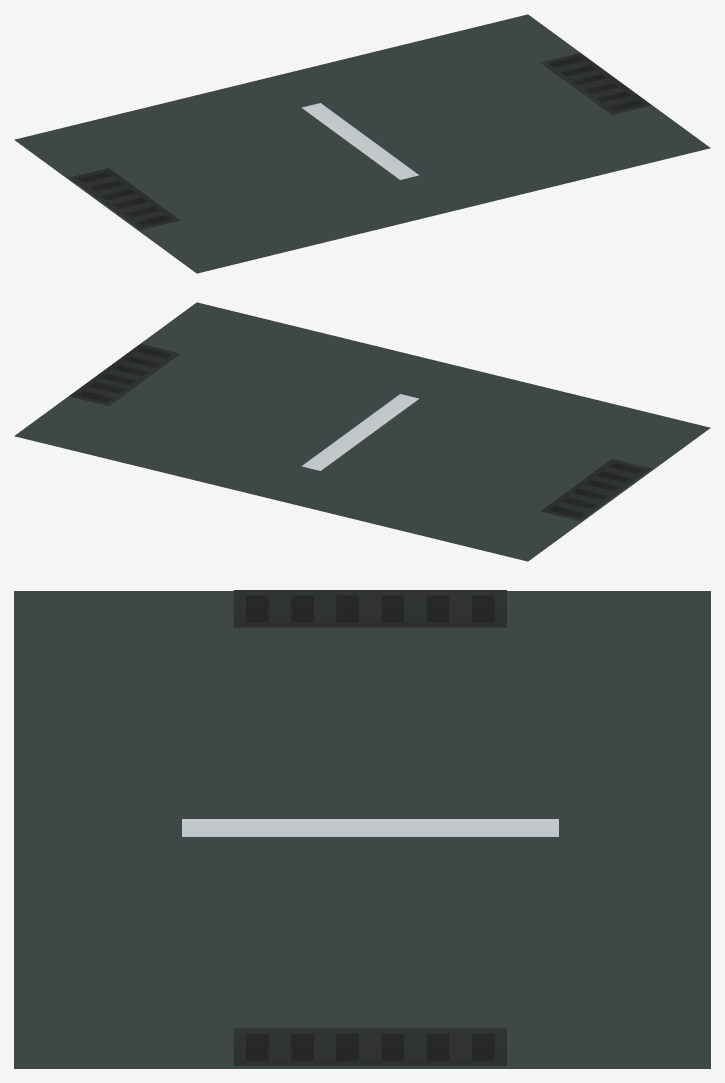
The model's file is Road_2_108.fbx.
3 views of the same model, one above another, from view 1: azimuth 30°, elevation 25°; view 2: azimuth 150°, elevation 25°; view 3: azimuth 270°, elevation 25° (orthographic). The views are drawn at different scales.
Visible parts, largest first — view 1: Road_2_108; view 2: Road_2_108; view 3: Road_2_108.
Part boxes in pixels (x1,y1,x2,y2): Road_2_108: (14,14,710,273); Road_2_108: (14,302,710,561); Road_2_108: (14,590,710,1068).
Bounding box in the file's own units: 900 × 1.66 × 555.
